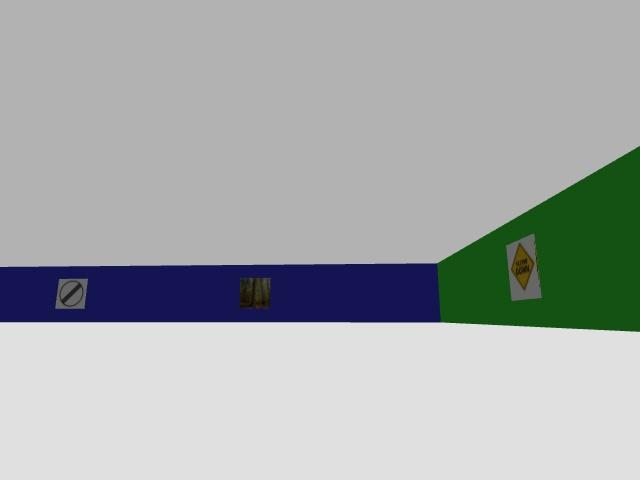fastsign: (55, 279, 87, 308)
slowsign: (508, 235, 541, 299)
